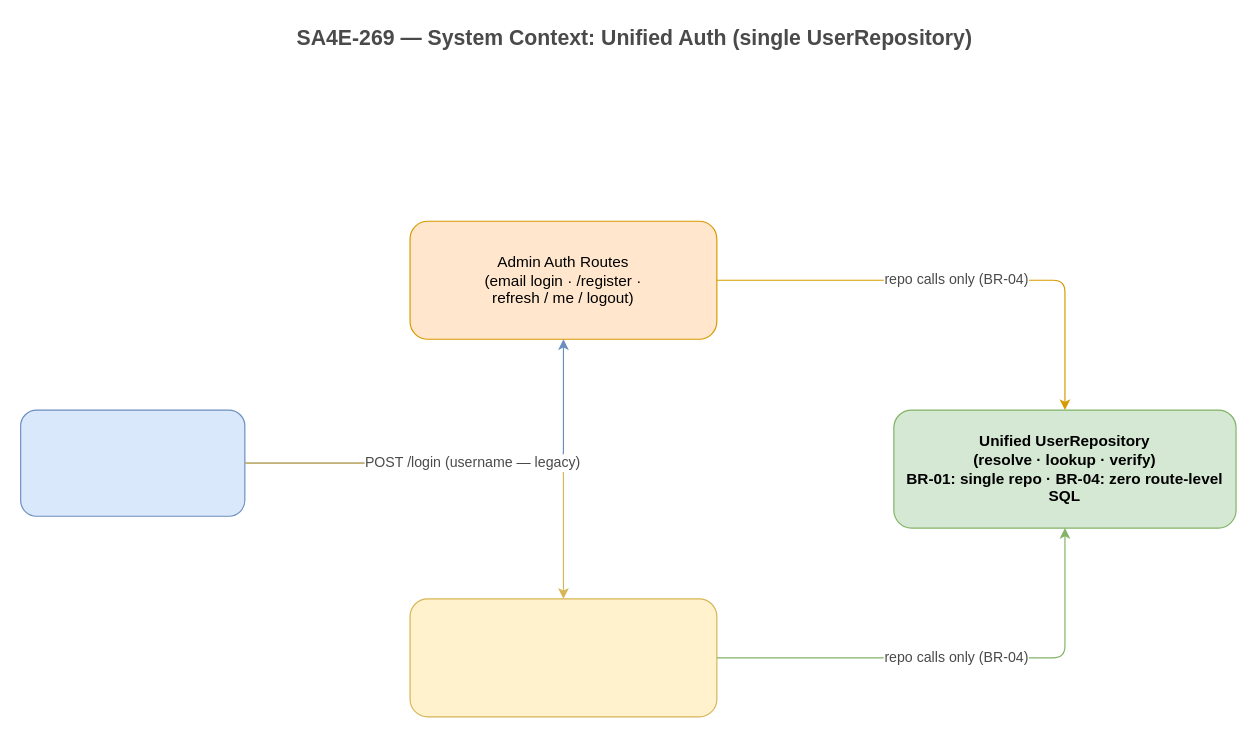
The diagram is 1257 pixels wide and 737 high, and some of its shapes have lost their labels. The shapes that lost their labels are listed below. From the top down, each one's centre as x and y in pixels, then its label:
point (132, 462): Client (Admin UI / Legacy Client)
point (563, 657): Sa4e-215 Auth Routes (legacy username login — backward compat)
